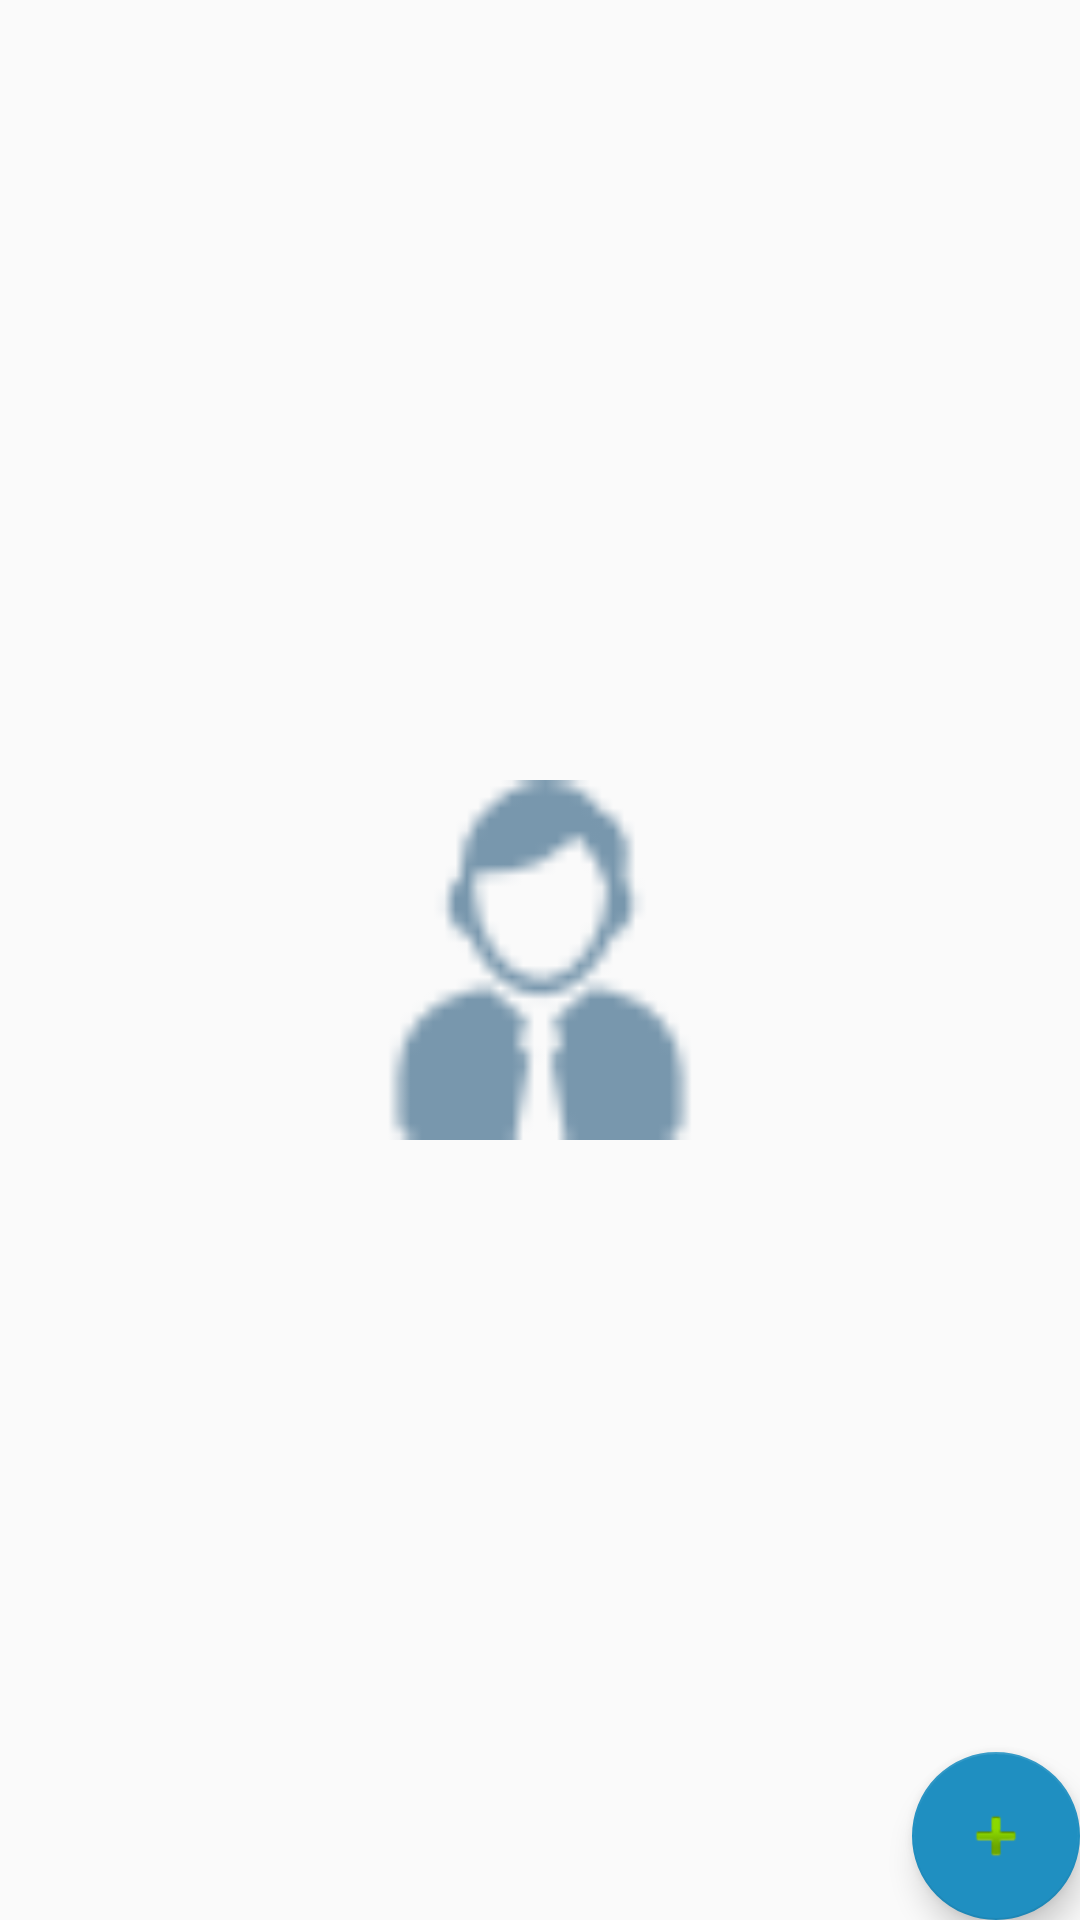

Where to tap for icons on this 1080x1920 app screen, as (x=x, y=y):
add: (x=996, y=1836)
office worker: (x=540, y=960)
